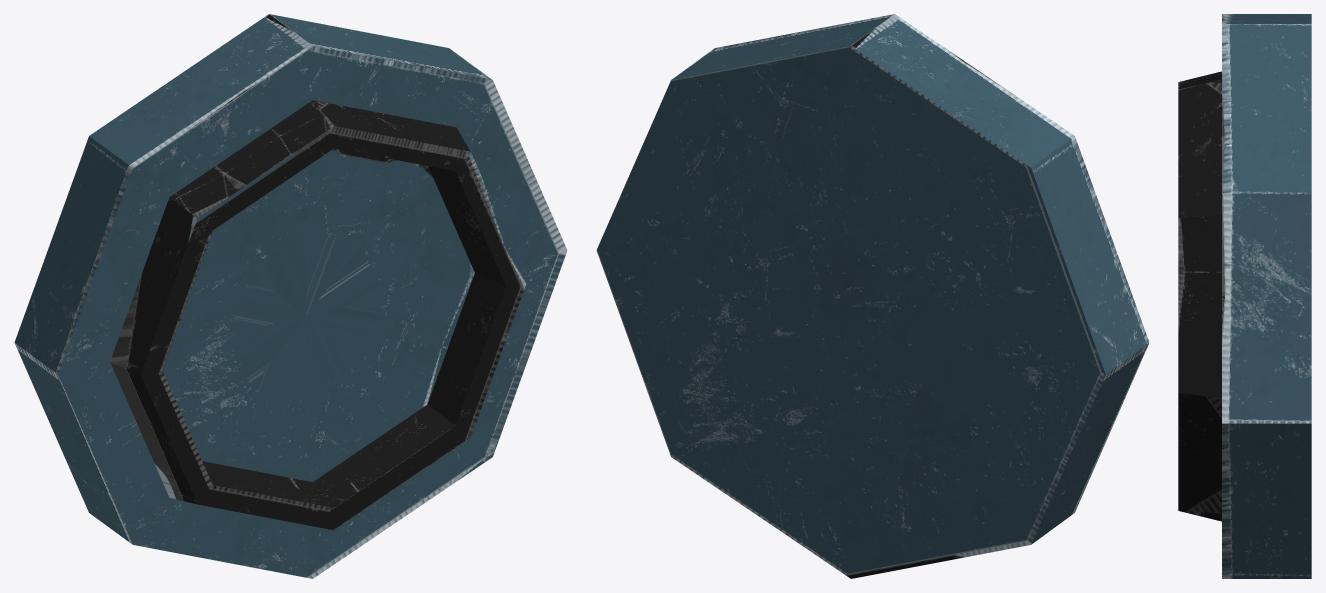
File: Misc2.gltf
3 renders of one model, left to right at view 1: azimuth 30°, elevation 25°; view 2: azimuth 150°, elevation 25°; view 3: azimuth 270°, elevation 25°, orthographic. The views are drawn at different scales.
Parts seen in each view (by area): view 1: Cylinder.027; view 2: Cylinder.027; view 3: Cylinder.027.
Boxes of the visible parts, box(x1,y1,x2,y2) form: Cylinder.027: box(14, 14, 567, 578); Cylinder.027: box(596, 14, 1149, 578); Cylinder.027: box(1178, 14, 1311, 578).
Size of the model in its own units: 1.74 by 1.74 by 0.3859.
Materials: 1 (1 with a texture image).
